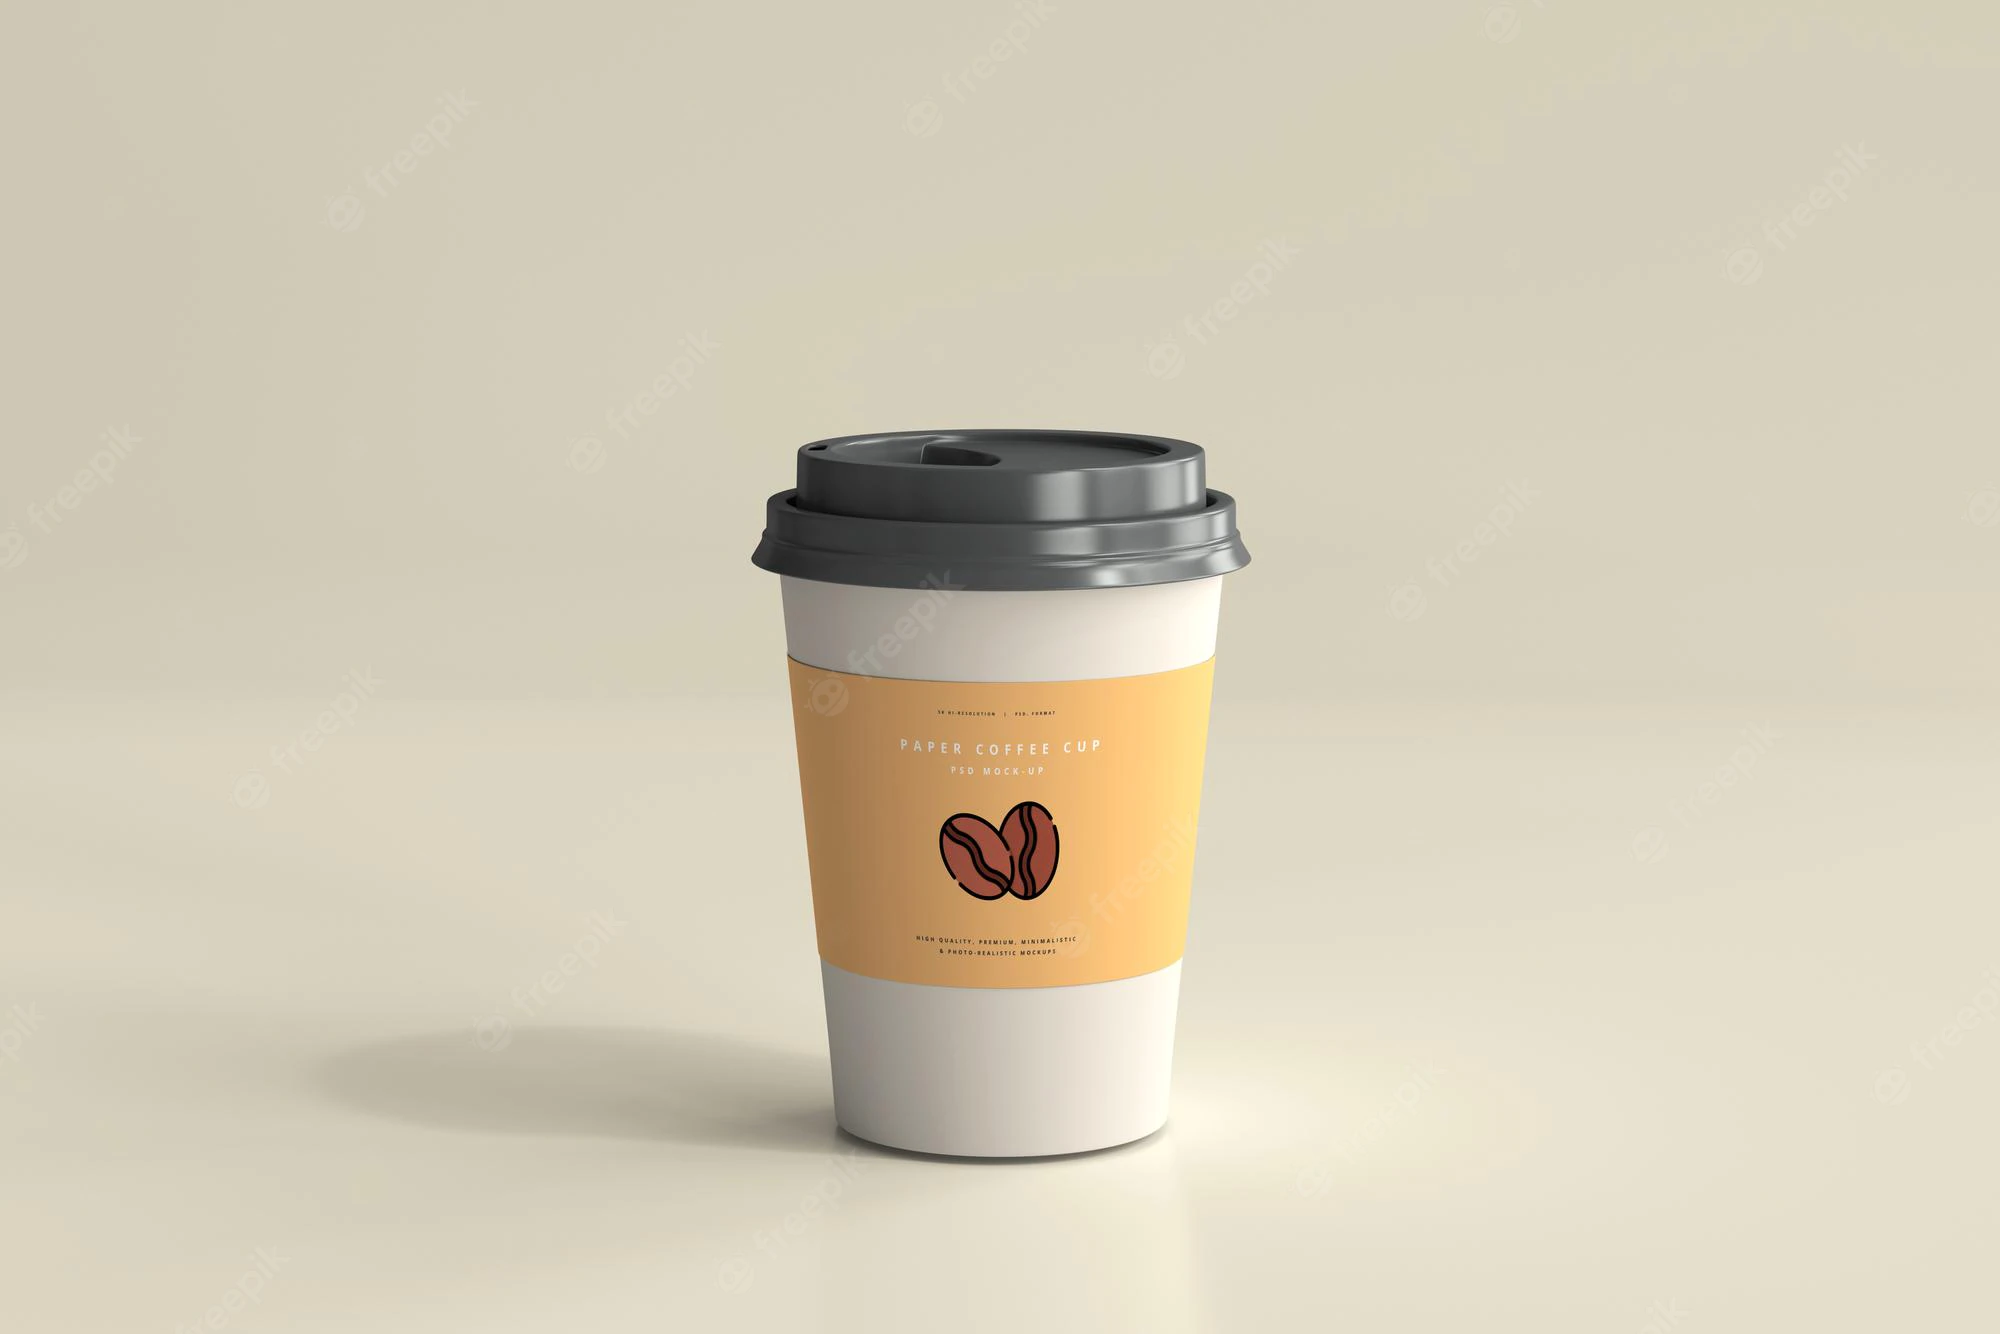cup: (746, 417, 1257, 1172)
